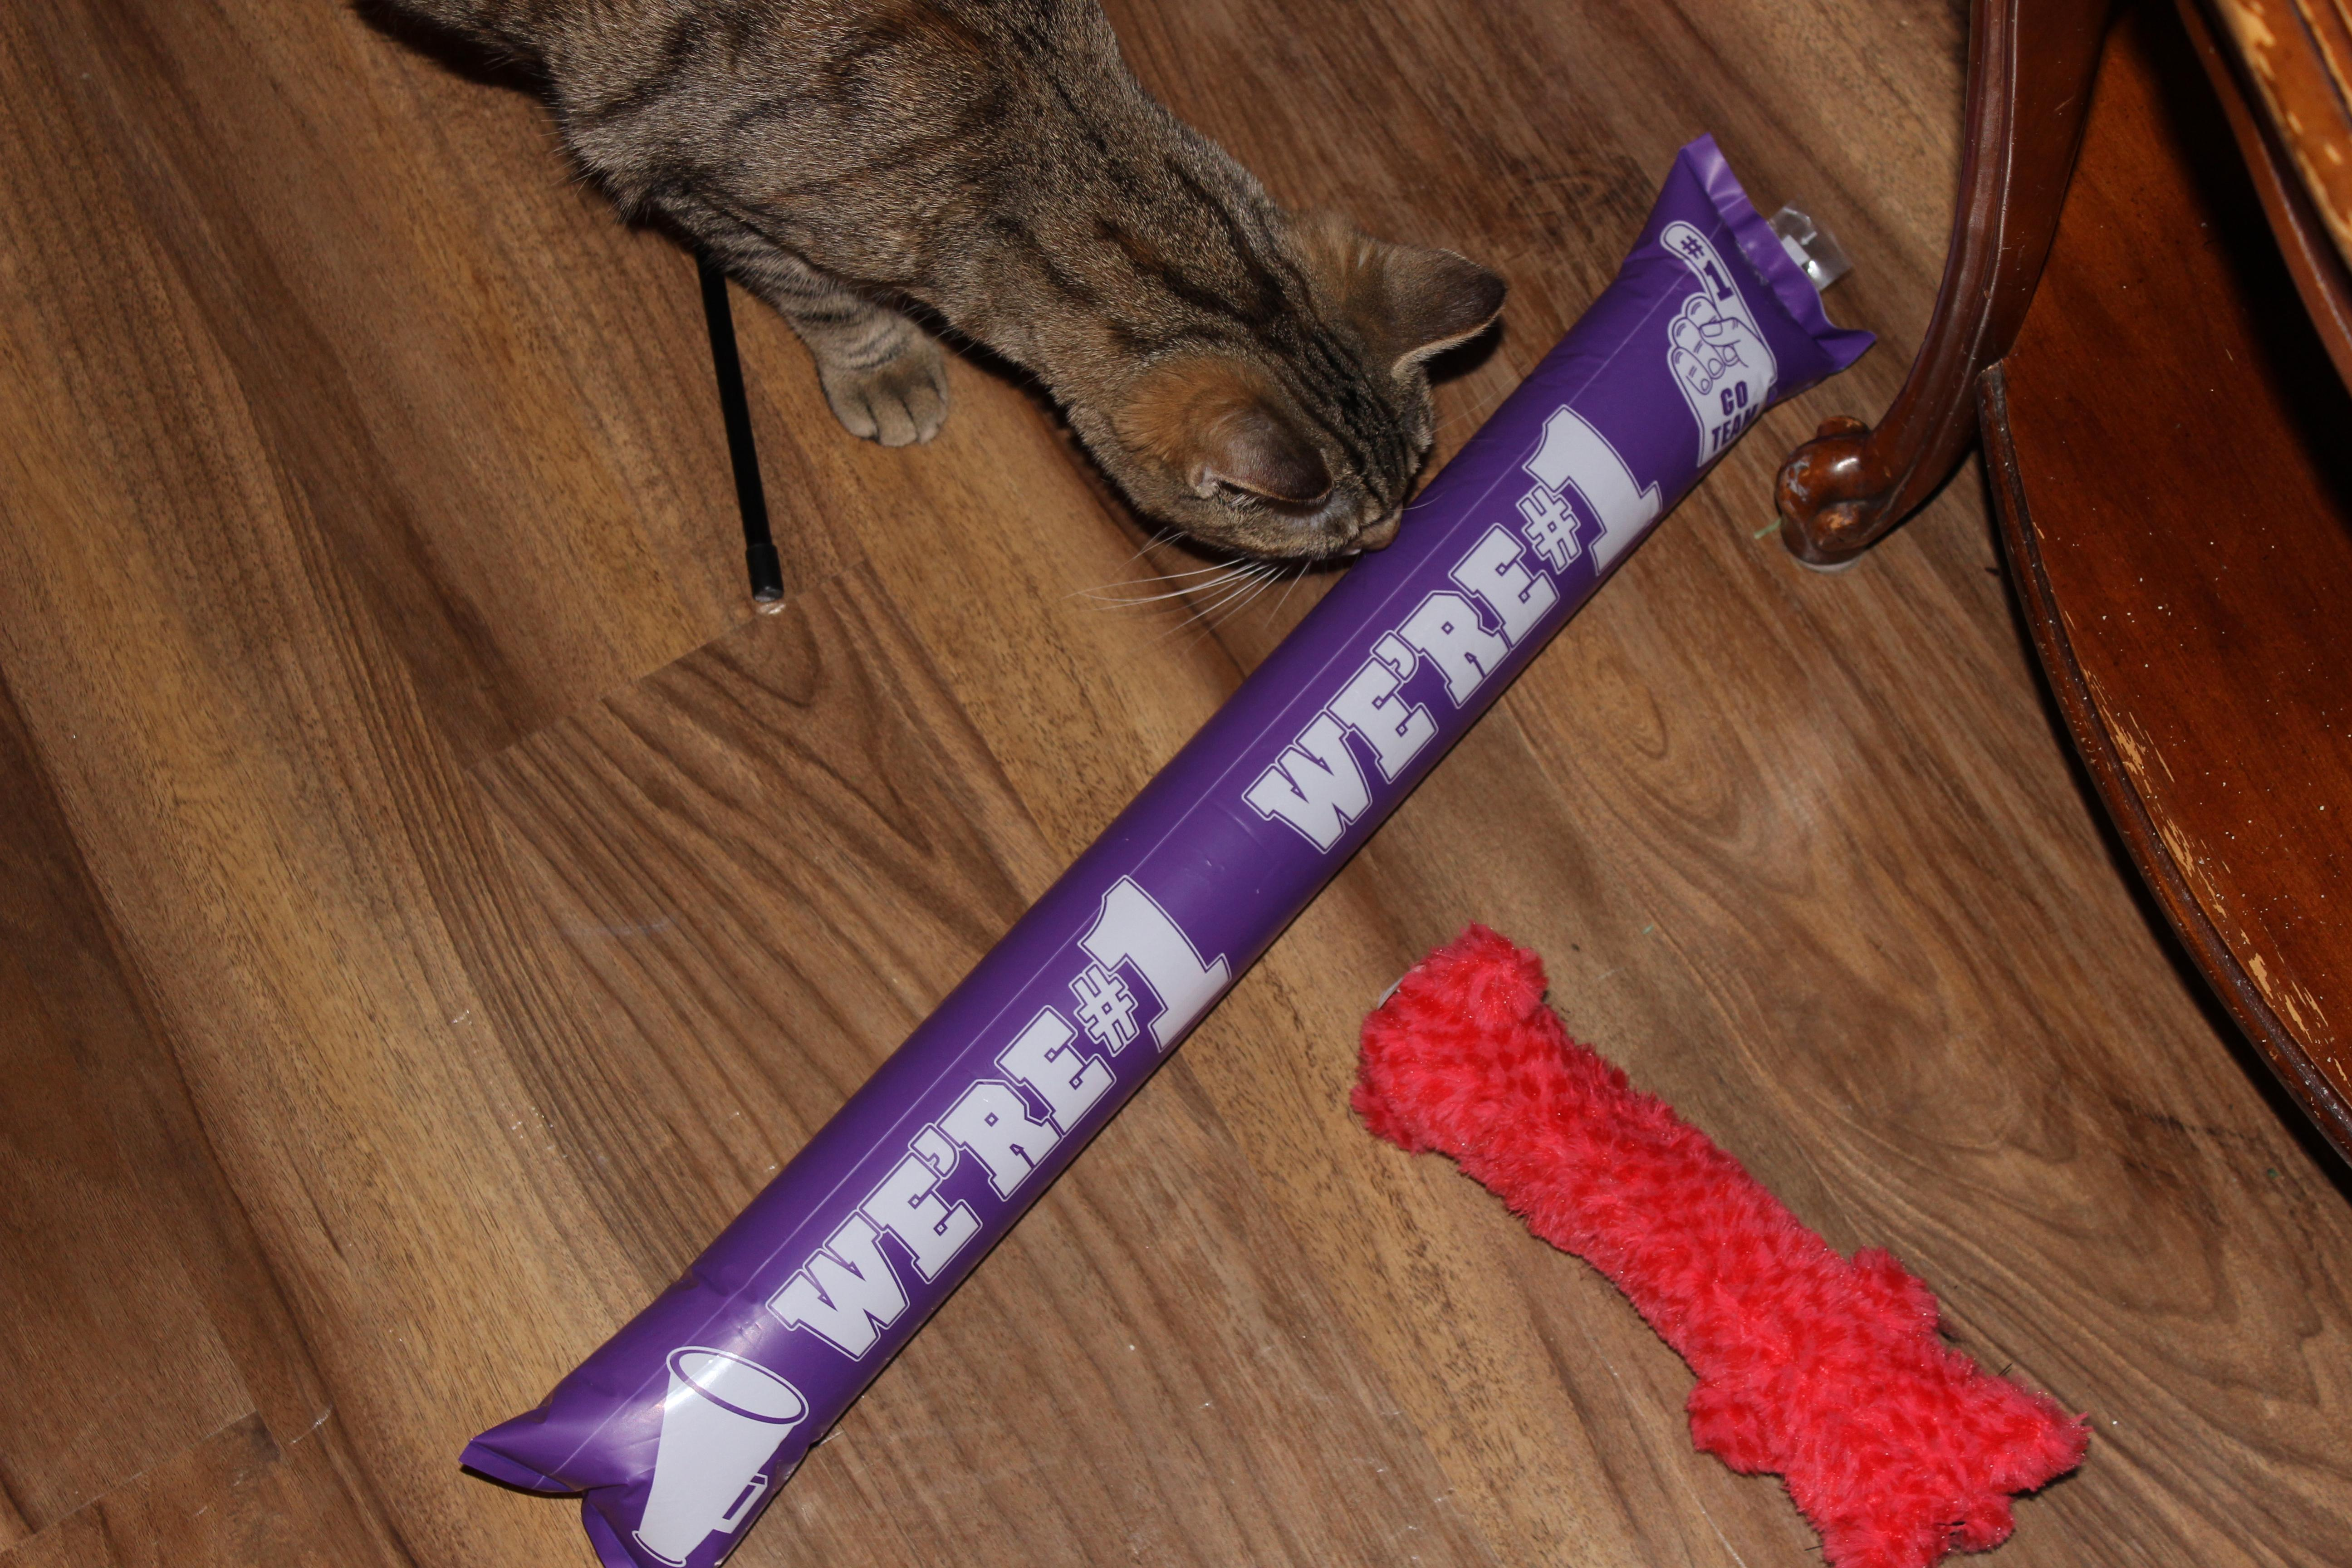noisemaker: (441, 108, 1920, 1568)
